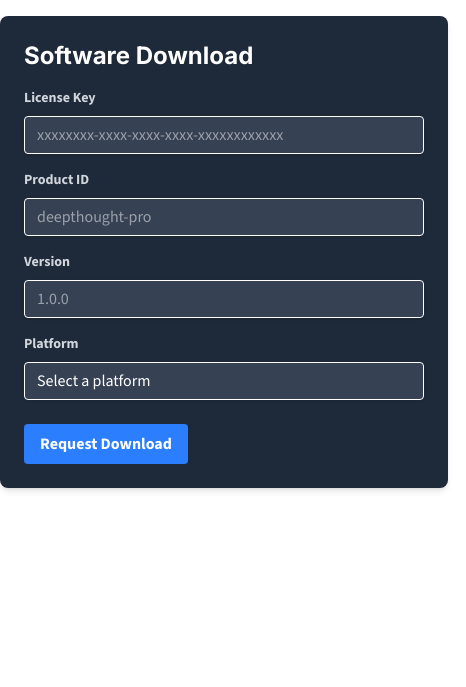
it: DownloadRequestForm › formats the file size correctly
In the field labelled "License Key": (224, 135) left=24, top=116, right=424, bottom=154, type "some-key"
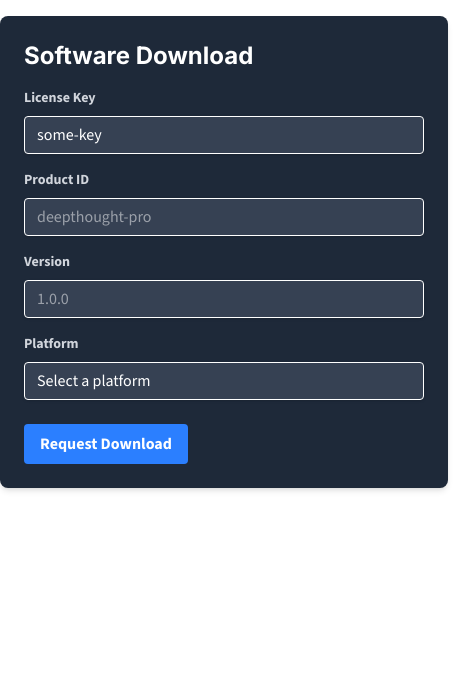
In the field labelled "Product ID": (224, 217) left=24, top=198, right=424, bottom=236, type "some-product"
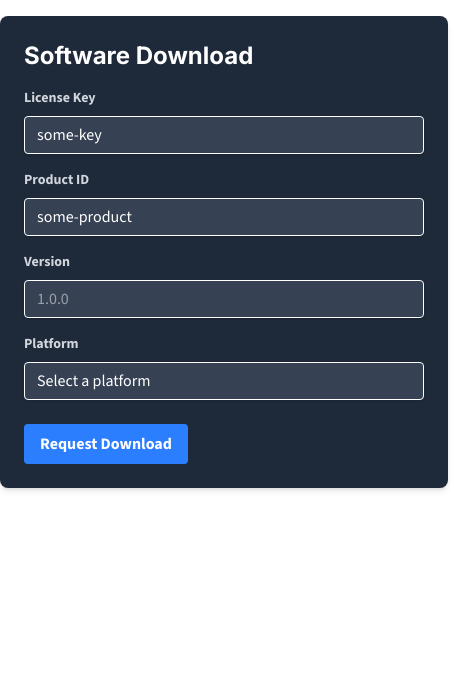
In the field labelled "Version": (224, 299) left=24, top=280, right=424, bottom=318, type "1.0"
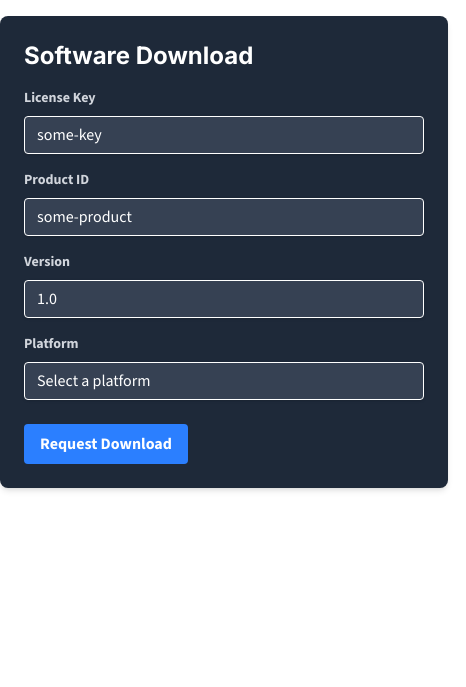
Select "Windows" in the dropdown labelled "Platform": (224, 381) left=24, top=362, right=424, bottom=400
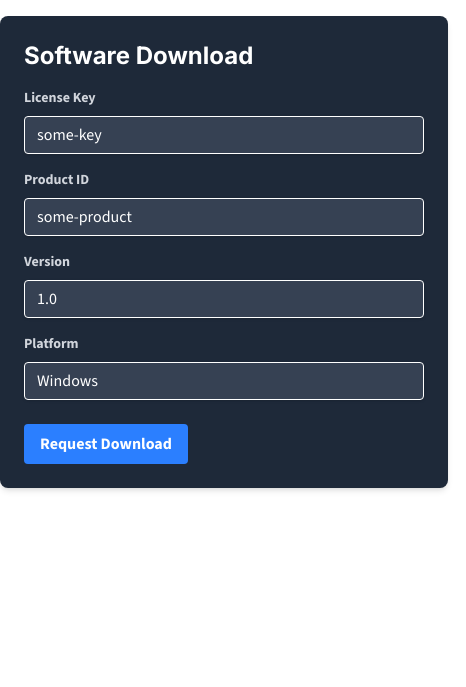
Click the button "Request Download": (106, 444) left=24, top=424, right=188, bottom=464
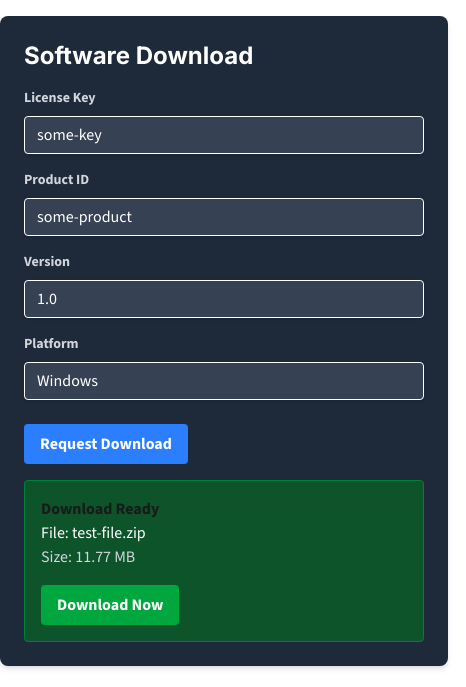
expect the text "Size: 11.77 MB" is shown: met, box left=41, top=546, right=135, bottom=567
